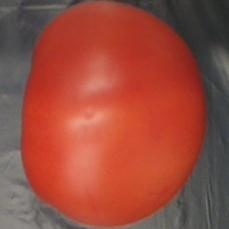unripe: (16, 0, 214, 229)
